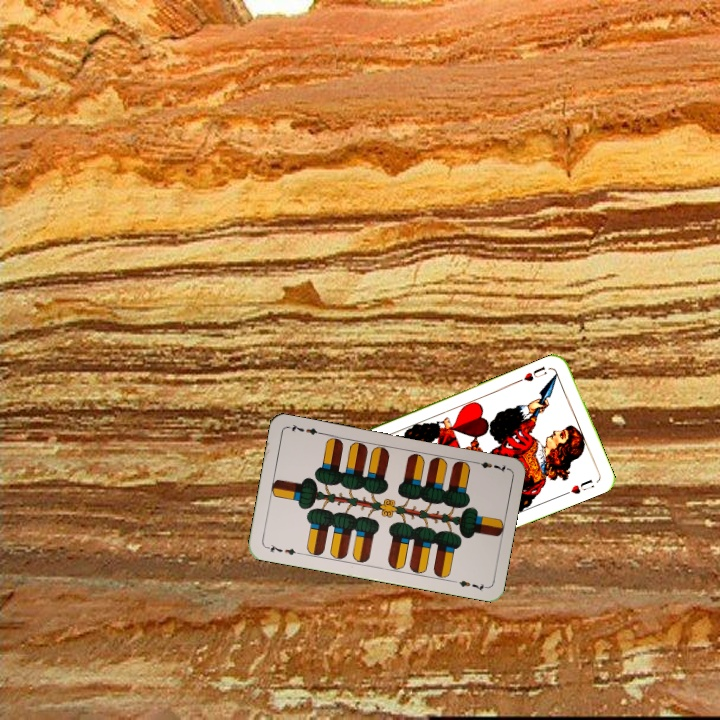E7: (469, 457, 510, 475), (262, 540, 302, 558)
HU: (520, 362, 549, 384)
